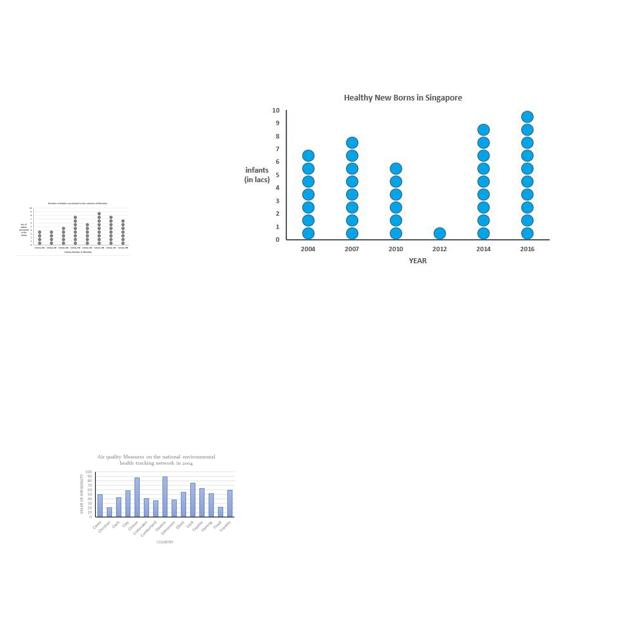Graph: (233, 84, 558, 274), (76, 451, 237, 546), (16, 201, 130, 256)
